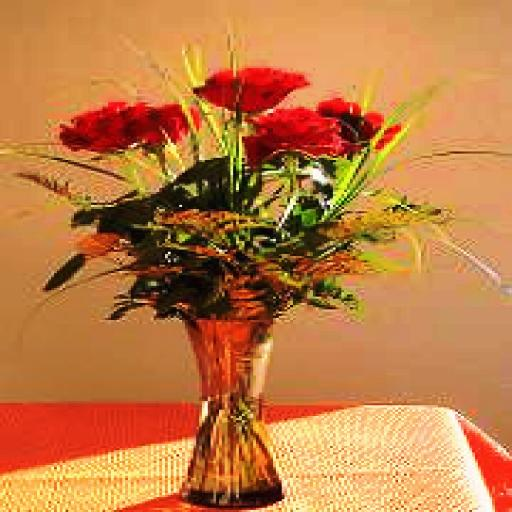rose: (239, 104, 344, 158), (190, 66, 304, 113), (60, 100, 142, 156), (117, 102, 202, 148)
